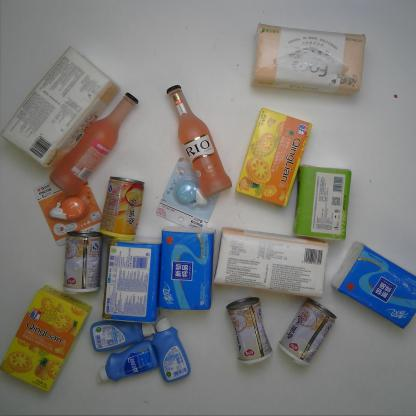Alcohol: (47, 90, 141, 197), (166, 82, 232, 196)
Canned Food: (276, 298, 338, 368), (225, 295, 274, 366), (99, 176, 145, 241), (60, 231, 102, 294)
Dessert: (1, 285, 93, 394), (236, 108, 313, 207)
Personal Hygiene: (95, 340, 158, 385), (154, 317, 192, 383), (88, 316, 157, 352)
Stationery: (155, 157, 224, 232), (32, 174, 102, 247)
Tissue: (0, 46, 120, 169), (250, 23, 367, 96), (212, 226, 328, 299), (330, 241, 416, 330), (101, 236, 162, 324), (159, 228, 215, 312), (292, 164, 352, 240)
